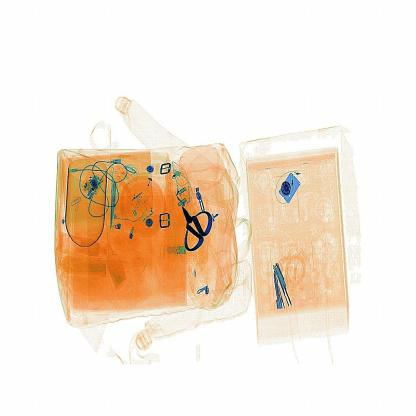gun: (176, 194, 218, 260)
